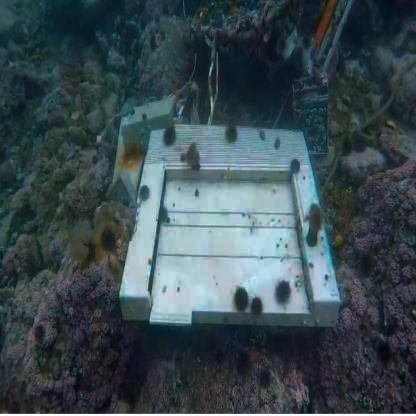electronics: (137, 108, 340, 358)
